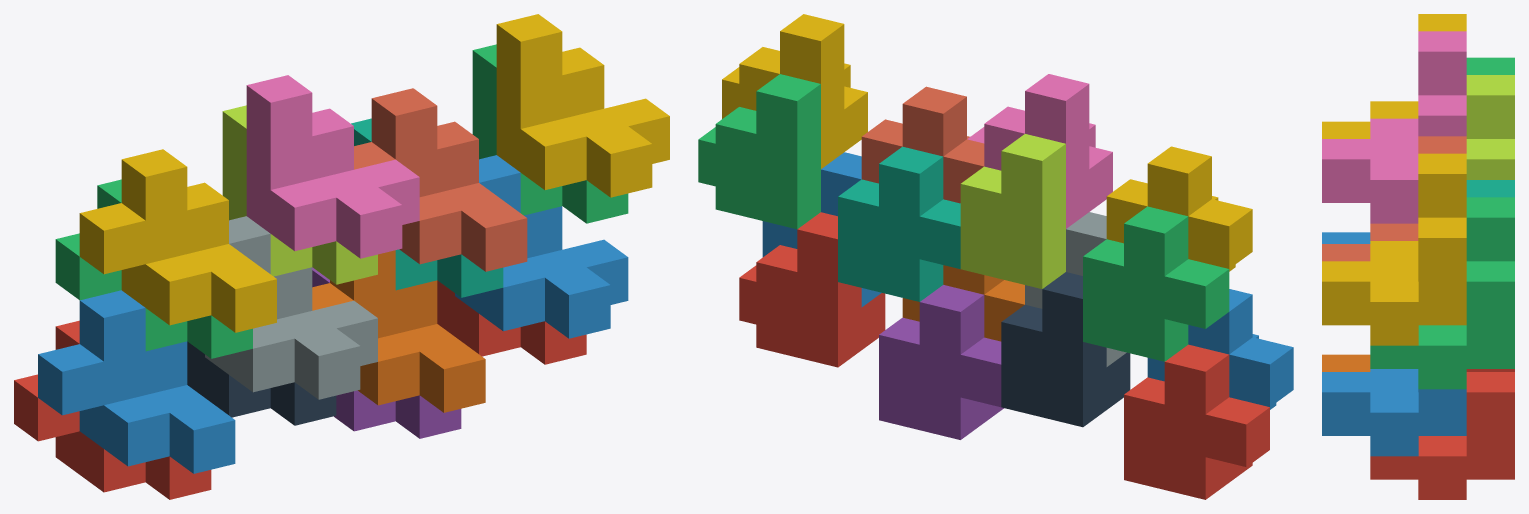
File: tiling.obj
The picture shows the model from 3 angles, left to right: view 1: azimuth 30°, elevation 25°; view 2: azimuth 150°, elevation 25°; view 3: azimuth 270°, elevation 25°; orthographic projection. The views are drawn at different scales.
Visible parts, largest first — view 1: copy_1_domain_4, copy_2_domain_8, copy_2_domain_4, copy_1_domain_2, copy_1_domain_8, copy_2_domain_6, copy_2_domain_2, copy_1_domain_6, copy_1_domain_1, copy_1_domain_3, copy_2_domain_7, copy_2_domain_3 (+4 smaller); view 2: copy_1_domain_1, copy_1_domain_3, copy_1_domain_5, copy_1_domain_7, copy_2_domain_7, copy_2_domain_5, copy_2_domain_3, copy_2_domain_1, copy_2_domain_8, copy_1_domain_4, copy_2_domain_4, copy_1_domain_8 (+4 smaller); view 3: copy_2_domain_8, copy_2_domain_4, copy_2_domain_7, copy_2_domain_5, copy_2_domain_6, copy_2_domain_3, copy_1_domain_4, copy_1_domain_8, copy_1_domain_3, copy_1_domain_6, copy_1_domain_7, copy_1_domain_2.
Part boxes in pixels (x1,y1,x2,y2): copy_1_domain_4: (79,149,276,332); copy_2_domain_8: (496,14,669,197); copy_2_domain_4: (246,75,419,258); copy_1_domain_2: (38,290,235,473); copy_1_domain_8: (354,88,527,271); copy_2_domain_6: (455,155,628,338); copy_2_domain_2: (205,216,377,399); copy_1_domain_6: (312,250,485,412); copy_1_domain_1: (14,320,211,499); copy_1_domain_3: (55,179,252,358); copy_2_domain_7: (472,44,628,223); copy_2_domain_3: (222,105,377,284); copy_1_domain_1: (1124,344,1269,499); copy_1_domain_3: (1083,206,1229,361); copy_1_domain_5: (879,285,1003,439); copy_1_domain_7: (838,146,960,301); copy_2_domain_7: (698,74,820,229); copy_2_domain_5: (739,212,885,367); copy_2_domain_3: (960,134,1065,288); copy_2_domain_1: (1001,272,1130,427); copy_2_domain_8: (722,14,867,168); copy_1_domain_4: (1106,146,1252,271); copy_2_domain_4: (967,74,1112,228); copy_1_domain_8: (861,86,984,203); copy_2_domain_8: (1322,153,1466,345); copy_2_domain_4: (1322,31,1466,223); copy_2_domain_7: (1370,197,1514,389); copy_2_domain_5: (1370,369,1514,499); copy_2_domain_6: (1322,369,1466,456); copy_2_domain_3: (1466,75,1514,179); copy_1_domain_4: (1322,14,1466,138); copy_1_domain_8: (1322,136,1466,261); copy_1_domain_3: (1466,57,1514,74); copy_1_domain_6: (1322,354,1370,371); copy_1_domain_7: (1466,180,1514,197); copy_1_domain_2: (1322,232,1370,243).
Bounding box in the file's own units: 14 × 8 × 4.
